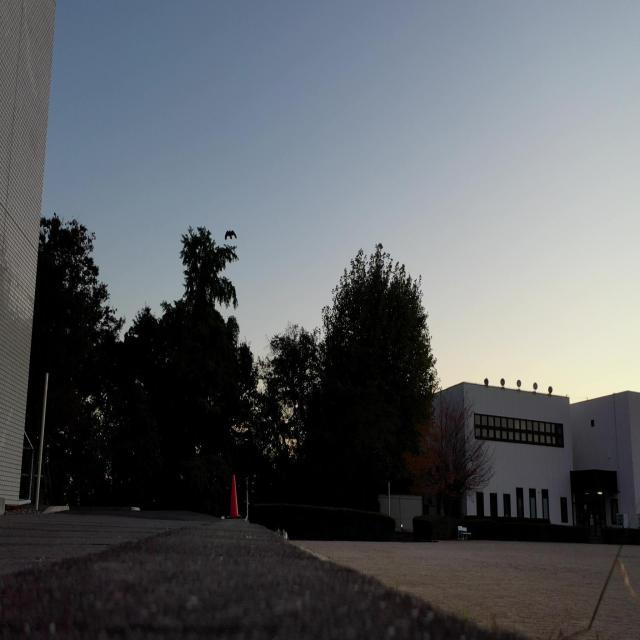Birds: (223, 226, 238, 242)
